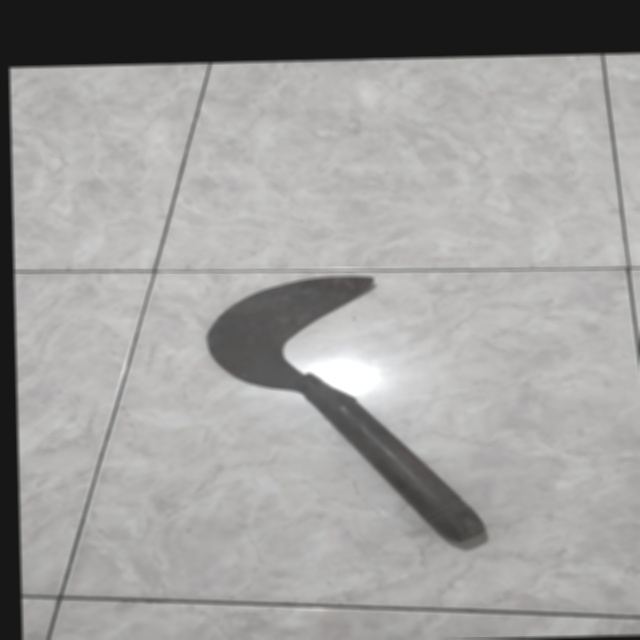Sharp-Object: (185, 266, 482, 565)
